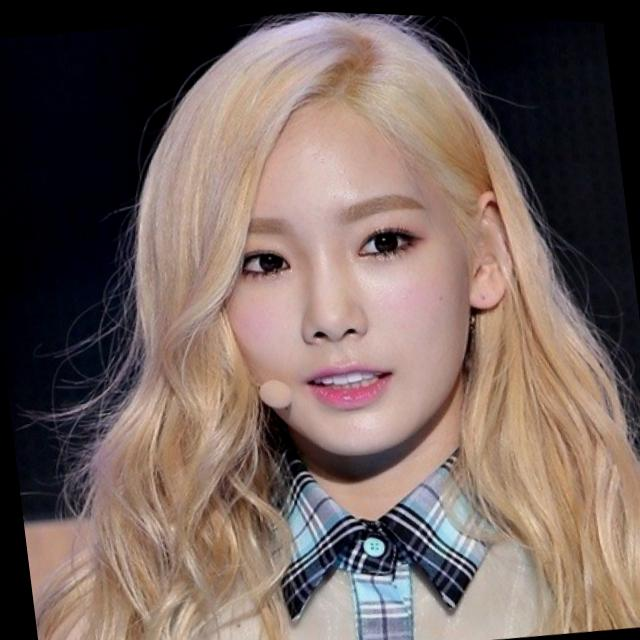face: (195, 103, 497, 478)
